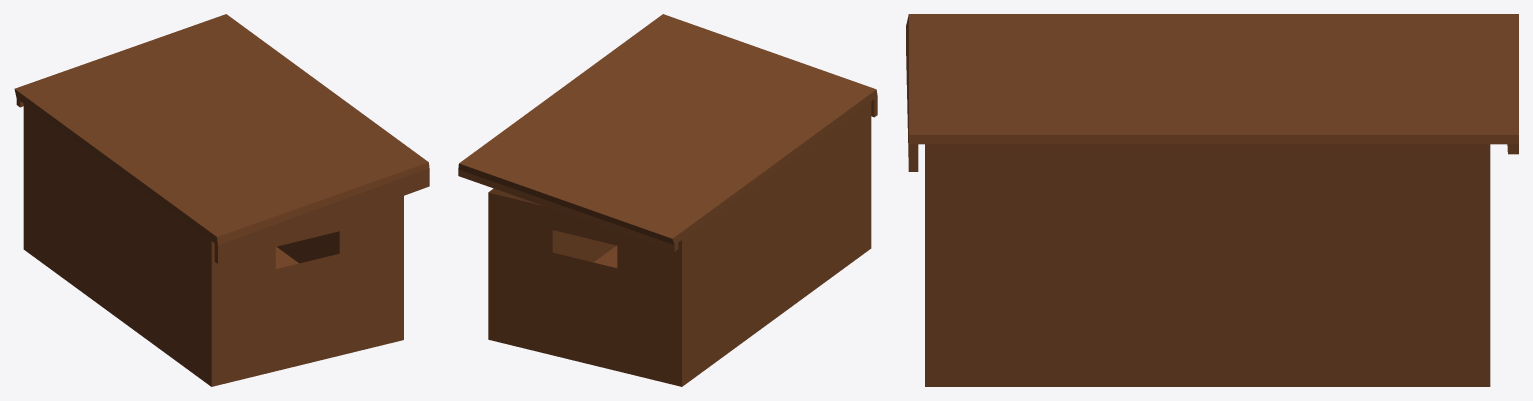
Rendered from ShoeBox.gltf.
3 renders of one model, left to right at view 1: azimuth 30°, elevation 25°; view 2: azimuth 150°, elevation 25°; view 3: azimuth 270°, elevation 25°, orthographic. The views are drawn at different scales.
Visible parts, largest first — view 1: shoe box; view 2: shoe box; view 3: shoe box.
Boxes of the visible parts, bbox=[...] form: shoe box: bbox=[14, 14, 429, 386]; shoe box: bbox=[458, 14, 877, 386]; shoe box: bbox=[906, 14, 1518, 386].
Bounding box in the file's own units: 3.18 × 2.53 × 5.28.
